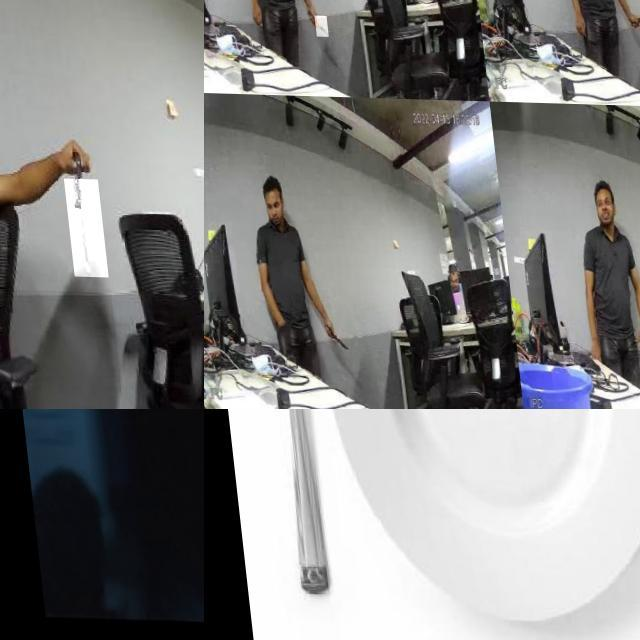-: (55, 177, 98, 276), (312, 326, 338, 354), (309, 14, 323, 36), (625, 4, 640, 22)
gun-knife-thesis - v11 Yolov5 augmented: (113, 409, 204, 475)
